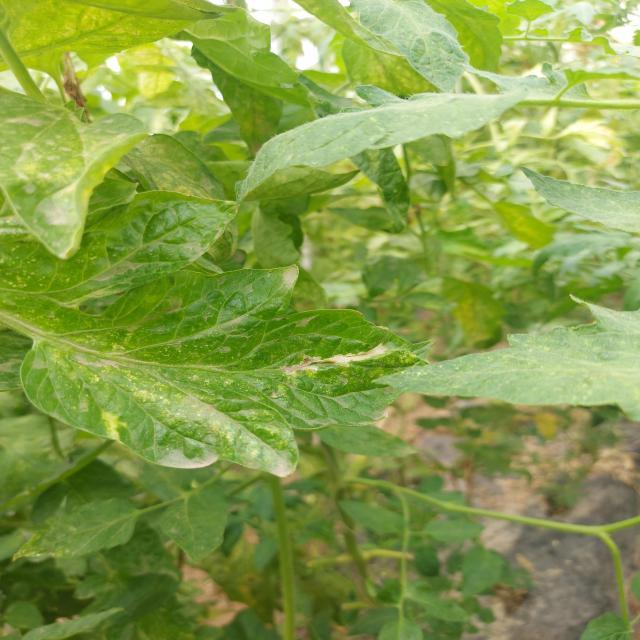Tuta absoluta: (282, 342, 391, 377)
